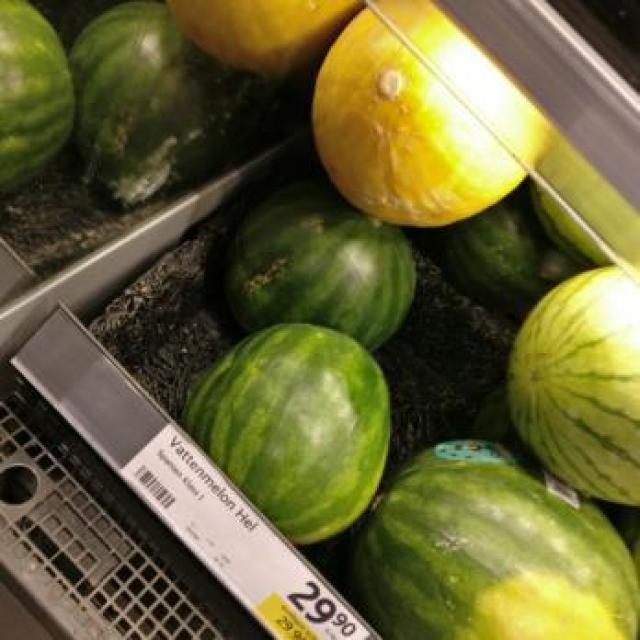Watermelon: (353, 440, 638, 638), (184, 324, 393, 546), (74, 0, 285, 208), (226, 178, 419, 352)
